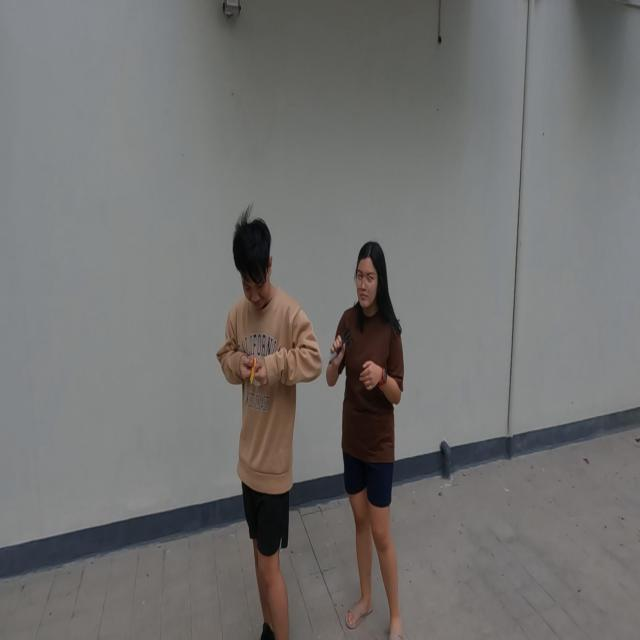scissor: (329, 328, 353, 363), (245, 354, 260, 405)
